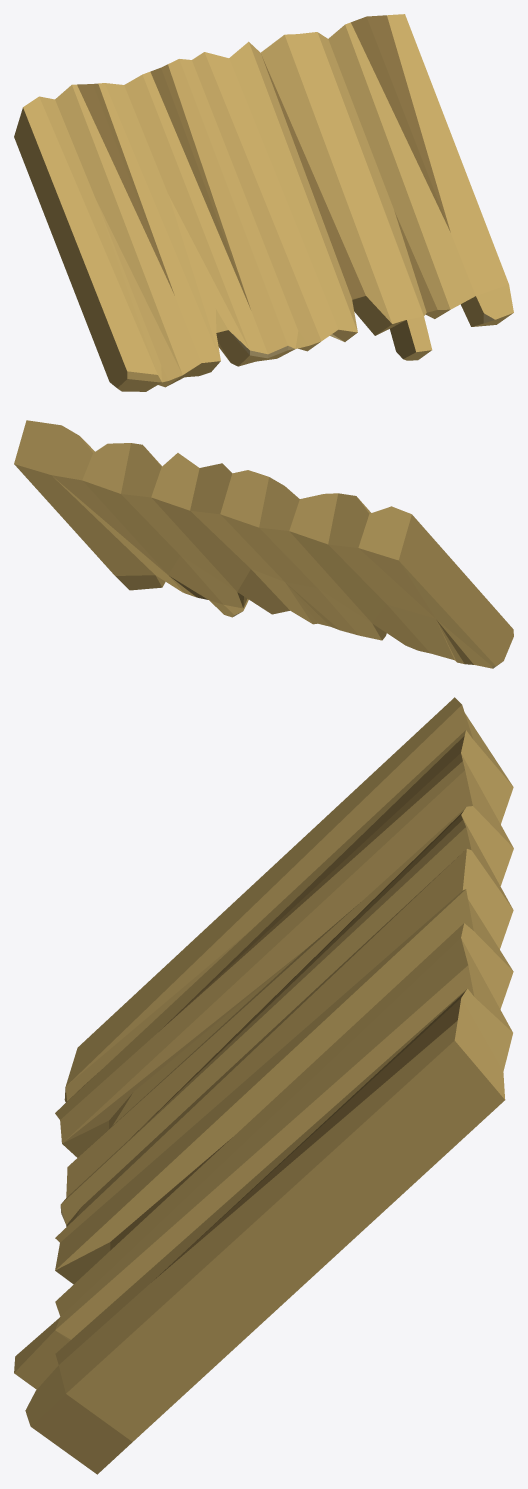
3 renders of one model, top to bottom at view 1: azimuth 30°, elevation 25°; view 2: azimuth 150°, elevation 25°; view 3: azimuth 270°, elevation 25°, orthographic. The views are drawn at different scales.
Visible parts, largest first — view 1: Cube.005; view 2: Cube.005; view 3: Cube.005.
Boxes of the visible parts, x1,y1,x2,y2 form: Cube.005: (14, 14, 513, 391); Cube.005: (14, 420, 513, 668); Cube.005: (14, 697, 513, 1474).
Size of the model in its own units: 6.93 by 4.42 by 4.27.
1 material, 1 textured.
